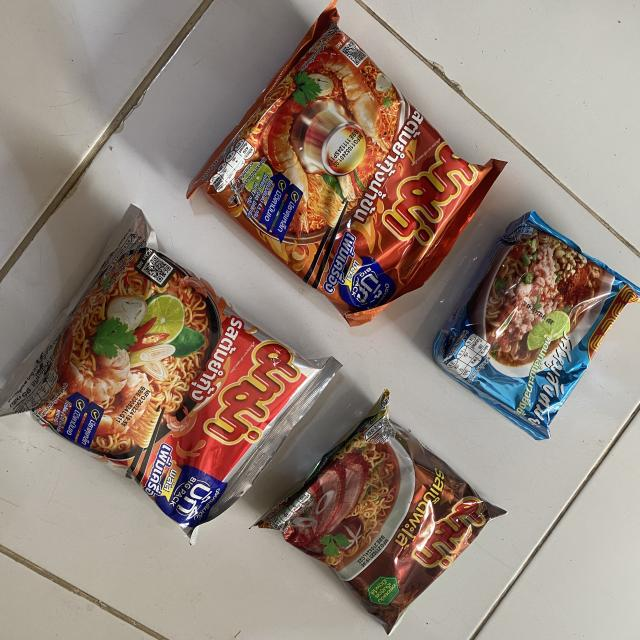plastik: (0, 205, 340, 542), (188, 0, 505, 326), (255, 390, 504, 634), (432, 211, 640, 440)
